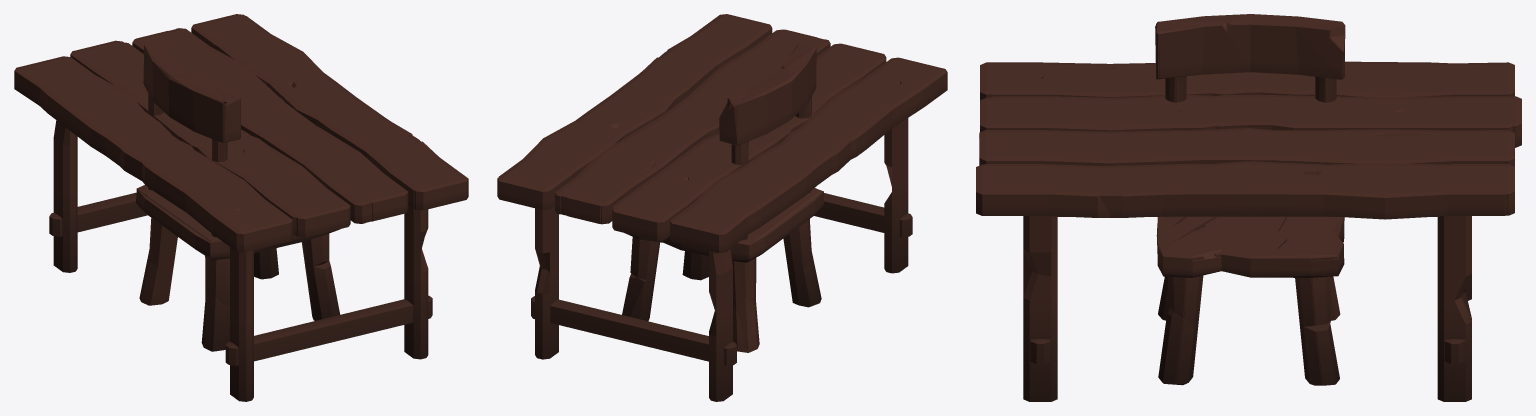
Rendered from Chairs and Tables.glb.
3 views of the same model, side by side, from view 1: azimuth 30°, elevation 25°; view 2: azimuth 150°, elevation 25°; view 3: azimuth 270°, elevation 25° (orthographic). The views are drawn at different scales.
Parts seen in each view (by area): view 1: table, table.001, Chair.001, Chair; view 2: table.001, table, Chair, Chair.001; view 3: table.001, table, Chair, Chair.001.
Boxes of the visible parts, <box> form: table: <box>23,14,451,401</box>; table.001: <box>14,15,468,362</box>; Chair.001: <box>138,43,340,351</box>; Chair: <box>136,43,313,347</box>; table.001: <box>499,14,947,401</box>; table: <box>497,17,933,401</box>; Chair: <box>622,44,821,352</box>; Chair.001: <box>648,43,823,348</box>; table.001: <box>976,61,1521,401</box>; table: <box>980,67,1514,401</box>; Chair: <box>1156,14,1345,385</box>; Chair.001: <box>1155,14,1342,385</box>.
Bounding box in the file's own units: 1.09 × 1.1 × 1.84.
1 material, 1 textured.
